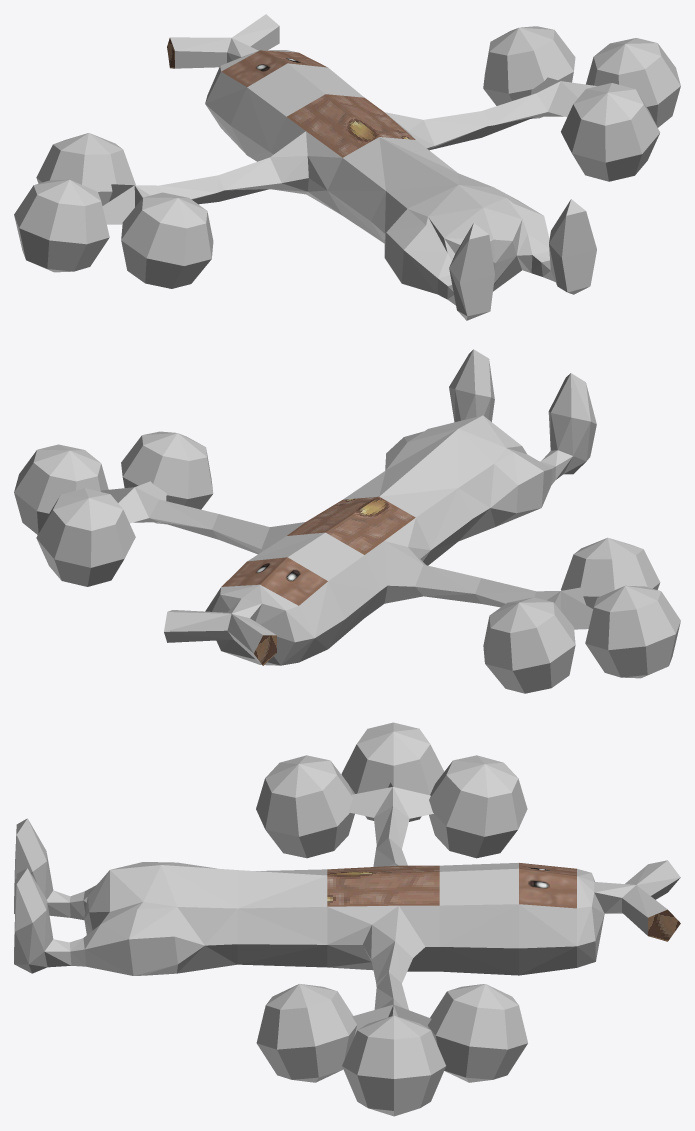
File: BR_Sudowoodo-Shiny02.obj
3 renders of one model, top to bottom at view 1: azimuth 30°, elevation 25°; view 2: azimuth 150°, elevation 25°; view 3: azimuth 270°, elevation 25°, orthographic. The views are drawn at different scales.
Parts seen in each view (by area): view 1: usokkie; view 2: usokkie; view 3: usokkie.
Part boxes in pixels (x1,y1,x2,y2): usokkie: [14, 14, 680, 320]; usokkie: [14, 349, 680, 693]; usokkie: [14, 722, 680, 1116].
Bounding box in the file's own units: 13.42 × 2.38 × 11.27.
